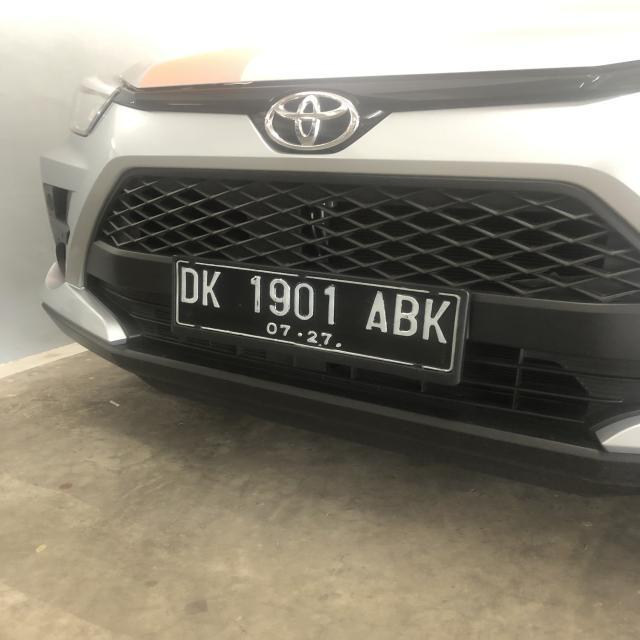0: (292, 280, 317, 322)
1: (320, 282, 340, 326), (249, 274, 264, 313)
9: (267, 278, 295, 314)
A: (362, 290, 390, 334)
B: (390, 294, 420, 337)
D: (180, 266, 200, 306)
K: (422, 294, 452, 347), (200, 266, 224, 311)
